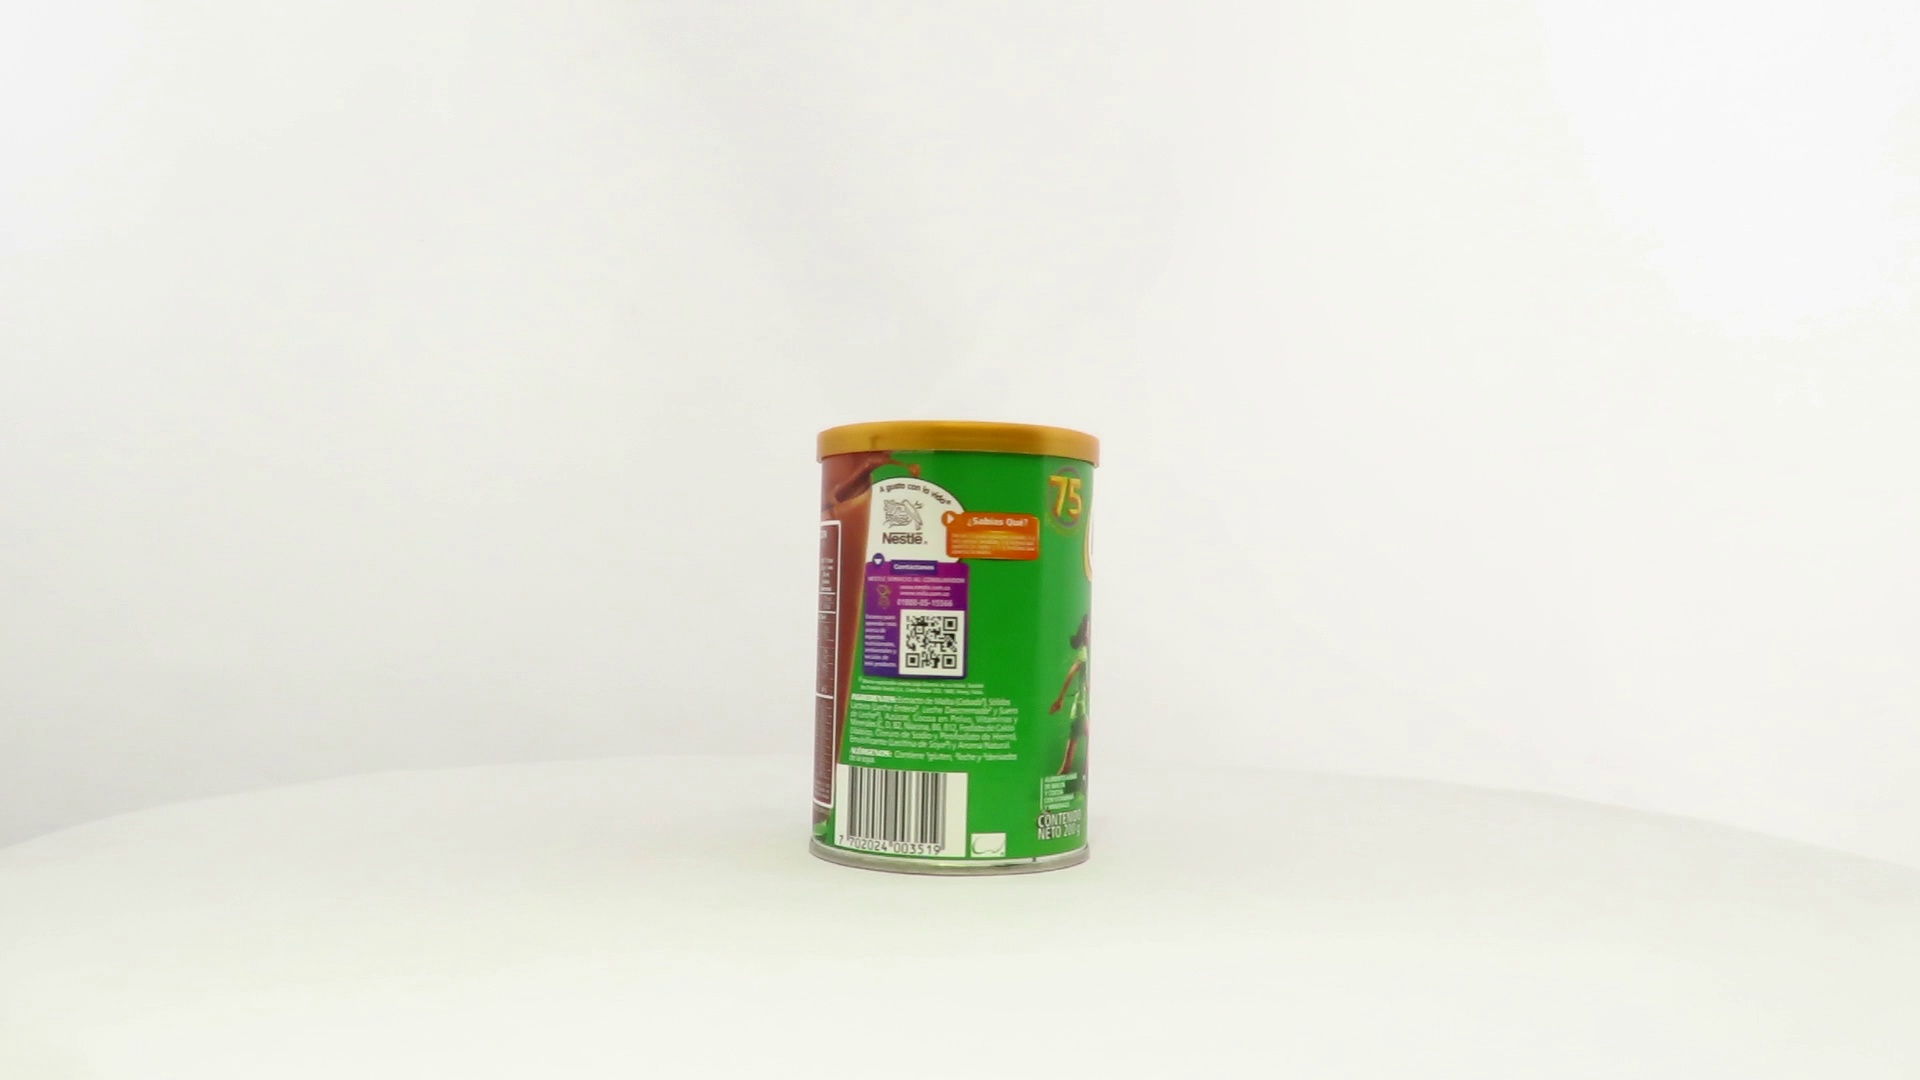COL0170203LAT20000: (803, 415, 1106, 884)
